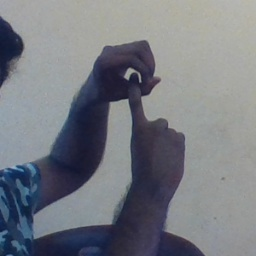Q: (73, 38, 192, 164)
